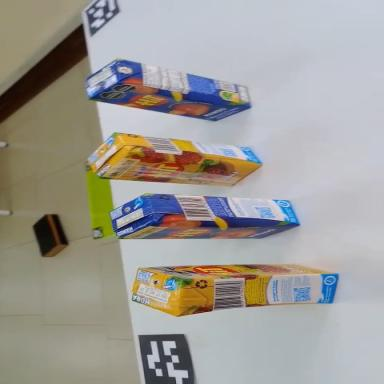HIT-MANGO: (83, 54, 255, 131), (110, 194, 299, 239)
HIT-MORA: (129, 251, 340, 321), (87, 130, 263, 195)
cara_F: (88, 76, 252, 129), (101, 148, 262, 194), (140, 260, 336, 281), (119, 219, 300, 240)
